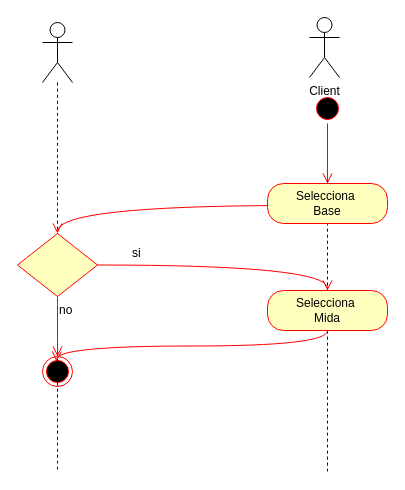
The diagram is 405 pixels wide and 490 high, and some of its shapes have lost their labels. The box of each missing label's shape, as (x1, y1, x2, y2) in pixels:
Base amb mida configurable?: (16, 232, 98, 296)
Sistema: (42, 22, 72, 82)
